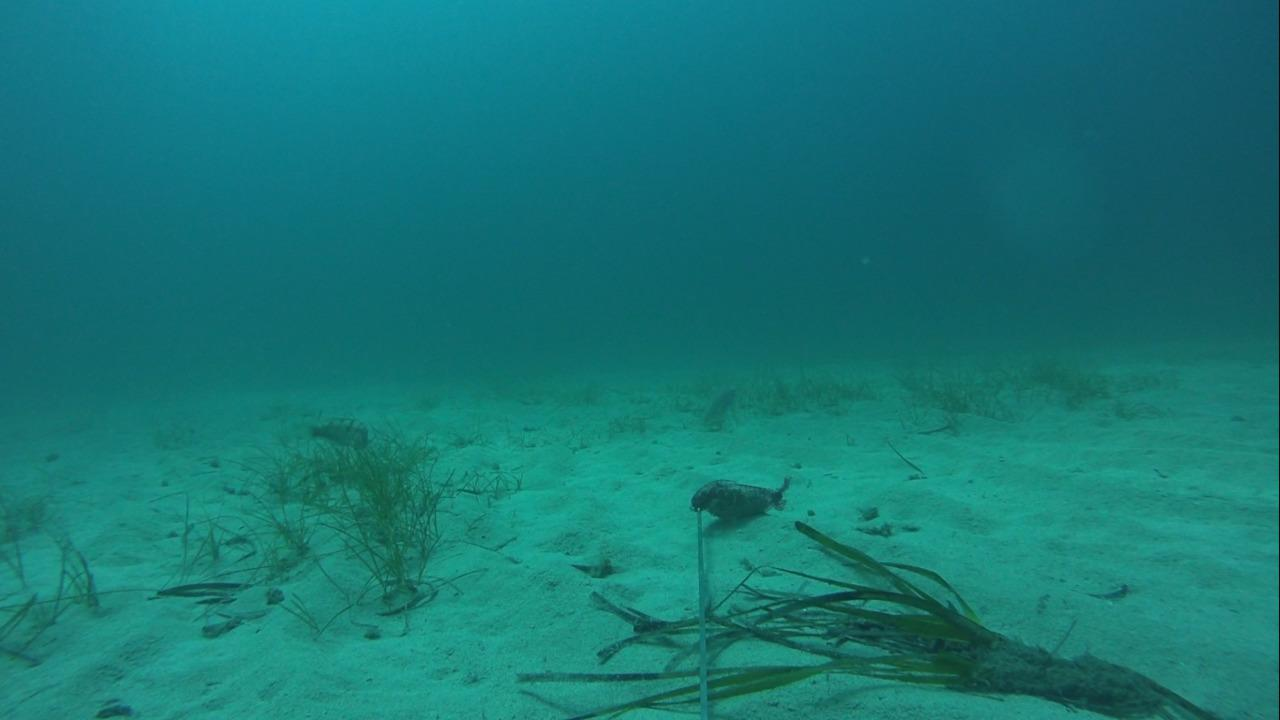raor: (295, 410, 377, 455), (699, 384, 733, 426)
